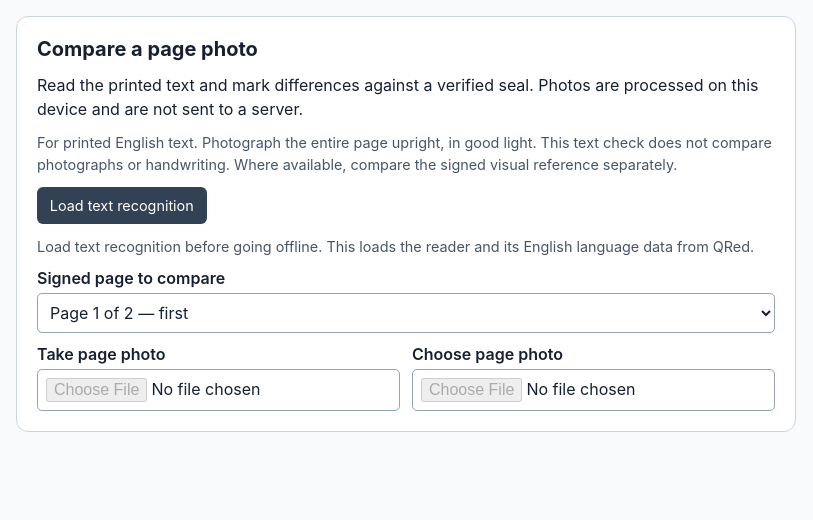
Test case: reports a failed engine load without a matching result and permits retry
What coordinates should you click on to do the following:
click the button "Load text recognition"
I would click on:
 (122, 206)
Its box is [37,187,206,224].
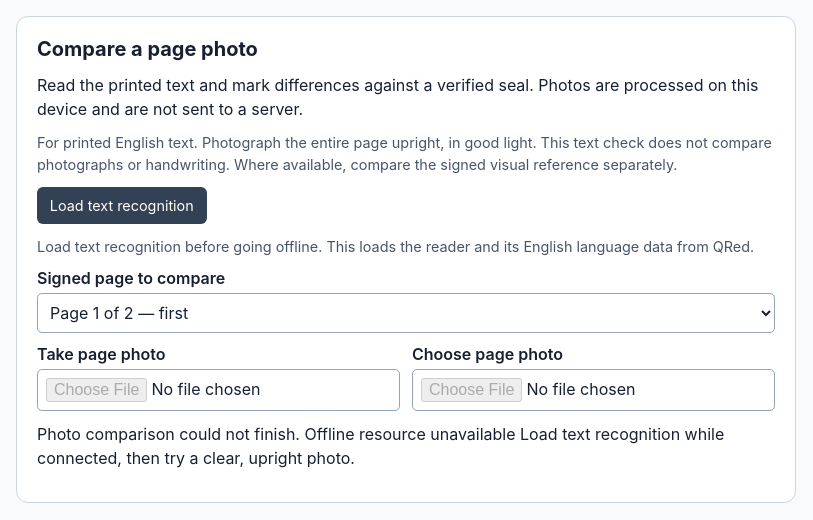
Check: the file field labelled "Choose page photo" is disabled, box [412,369,775,411]
Check: the message shows "Offline resource unavailable", box [37,424,724,468]
What coordinates should you click on to do the following:
click the button "Load text recognition"
I would click on:
 (122, 206)
Its box is [37,187,206,224].
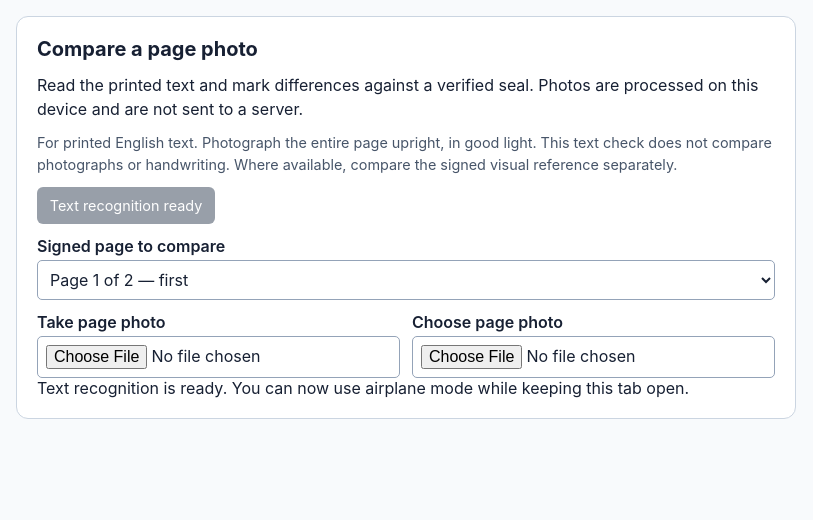
Check: the button "Text recognition ready" is shown, box [37,187,215,224]
